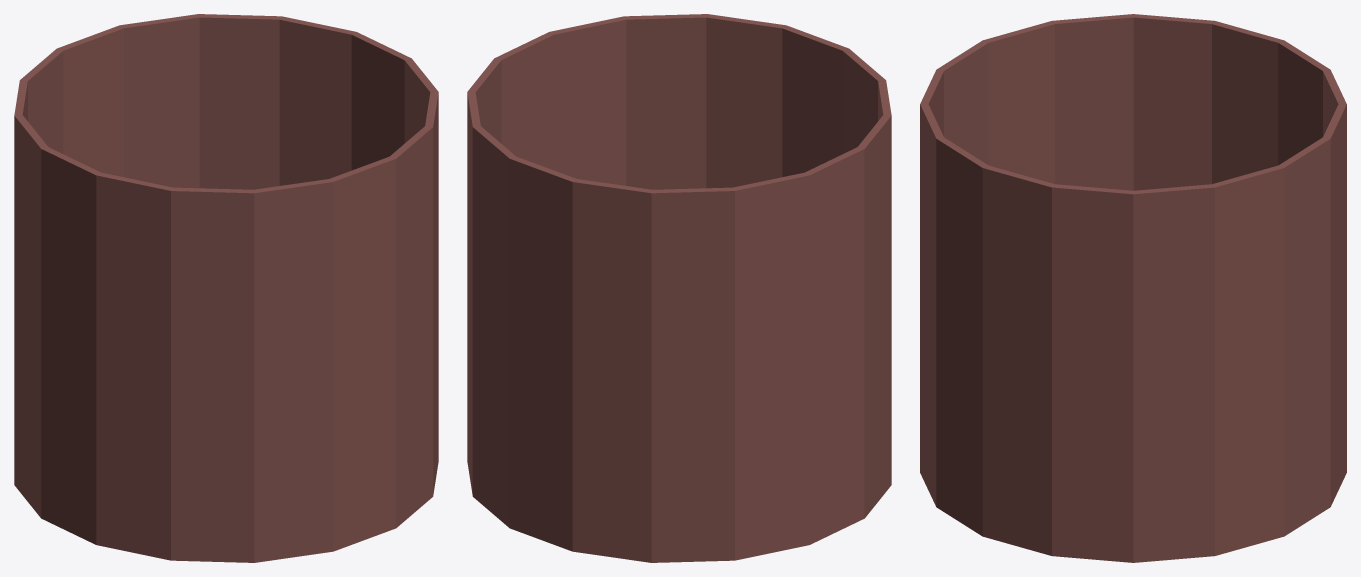
The model's file is mech_gestator_glass.obj.
3 views of the same model, side by side, from view 1: azimuth 30°, elevation 25°; view 2: azimuth 150°, elevation 25°; view 3: azimuth 270°, elevation 25° (orthographic).
Parts seen in each view (by area): view 1: mech_gestator_glass; view 2: mech_gestator_glass; view 3: mech_gestator_glass.
Part boxes in pixels (x1=…): mech_gestator_glass: x1=14, y1=14, x2=438, y2=562; mech_gestator_glass: x1=467, y1=14, x2=891, y2=562; mech_gestator_glass: x1=920, y1=14, x2=1346, y2=562.
Bounding box in the file's own units: 1.28 × 1.22 × 1.28.
